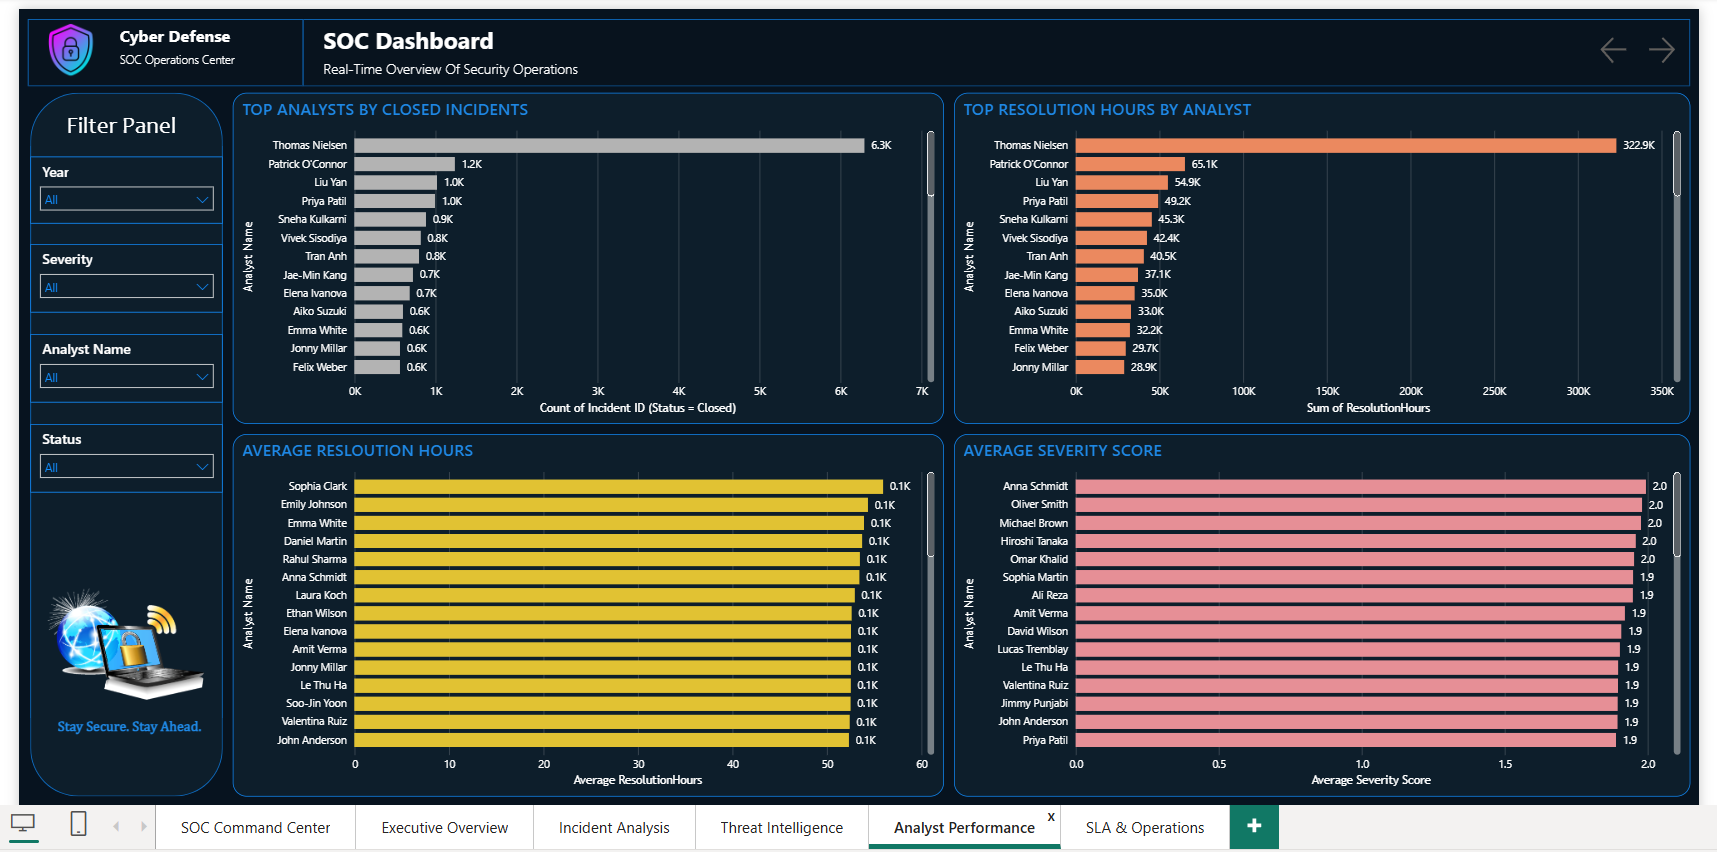

The dashboard page shown, as its layout file describes it:
{"tool":"powerbi","page":{"name":"Analyst Performance","canvas":[1920,1080],"ordinal":4},"visuals":[{"type":"group","id":"g1","title":"Group 8","box":[324.3,11.4,1585.7,77.1],"z":0},{"type":"group","id":"g2","title":"Group 7","box":[10,12,315,77],"z":1000},{"type":"shape","box":[10,12,315,77],"z":1000,"group":"g2"},{"type":"textbox","title":"Cyber Defense","box":[110,17,154,30],"z":2000,"group":"g2"},{"type":"actionButton","box":[1857.1,27.1,40,40],"z":2000},{"type":"actionButton","box":[1802.9,27.1,40,40],"z":3000},{"type":"textbox","title":"SOC Operations Center","box":[110,49,195,27],"z":3000,"group":"g2"},{"type":"image","box":[17,14,84,67],"z":4000,"group":"g2"},{"type":"shape","box":[12.9,95.7,220,804.3],"z":4000},{"type":"shape","box":[324.3,11.4,1585.7,77.1],"z":5000,"group":"g1"},{"type":"shape","title":"Filter Panel","box":[54.3,115.7,132.9,35.7],"z":5000},{"type":"textbox","title":"SOC Dashboard","box":[342.7,16.4,390.1,64.1],"z":6000,"group":"g1"},{"type":"slicer","fields":{"Values":["Date.Year"]},"box":[12.9,168.6,220,77.1],"z":6000},{"type":"textbox","title":"Real-Time Overview Of Security Operations","box":[342.7,56.5,632.9,24],"z":7000,"group":"g1"},{"type":"slicer","fields":{"Values":["Incident.Severity"]},"box":[12.9,268.6,220,78.6],"z":7000},{"type":"slicer","fields":{"Values":["Incident.Status"]},"box":[12.9,474.3,220,78.6],"z":8000},{"type":"slicer","fields":{"Values":["Analyst.AnalystName"]},"box":[12.9,371.4,220,78.6],"z":9000},{"type":"barChart","title":"TOP ANALYSTS BY CLOSED INCIDENTS ","fields":{"Y":["CountNonNull(Incident.IncidentID)"],"Category":["Analyst.AnalystName"]},"box":[244.3,95.7,812.9,378.6],"z":10000},{"type":"barChart","title":"TOP RESOLUTION HOURS BY ANALYST","fields":{"Category":["Analyst.AnalystName"],"Y":["Sum(Incident.ResolutionHours)"]},"box":[1068.6,95.7,841.4,378.6],"z":11000},{"type":"barChart","title":"AVERAGE RESLOUTION HOURS","fields":{"Category":["Analyst.AnalystName"],"Y":["Avg(Incident.ResolutionHours)"]},"box":[244.3,485.7,812.9,414.3],"z":12000},{"type":"barChart","title":"AVERAGE SEVERITY SCORE","fields":{"Category":["Analyst.AnalystName"],"Y":["Avg(Incident.Severity Score)"]},"box":[1068.6,485.7,841.4,414.3],"z":13000},{"type":"image","box":[32.9,661.4,178.6,128.6],"z":14000},{"type":"shape","title":"Stay Secure. Stay Ahead.","box":[44.3,811.4,187.1,32.9],"z":15000}]}

Visuals, with their boxes on the page's 1920x1080 design canvas (x1, y1, x2, y2). These are canvas units, not pixel positions in the 1717x852 screenshot, which may show the page scaled, cropped or inside an application window:
"Group 8" group: 324:11:1910:88
"Group 7" group: 10:12:325:89
shape: 10:12:325:89
"Cyber Defense" textbox: 110:17:264:47
actionButton: 1857:27:1897:67
actionButton: 1803:27:1843:67
"SOC Operations Center" textbox: 110:49:305:76
image: 17:14:101:81
shape: 13:96:233:900
shape: 324:11:1910:88
"Filter Panel" shape: 54:116:187:151
"SOC Dashboard" textbox: 343:16:733:80
slicer - Date.Year: 13:169:233:246
"Real-Time Overview Of Security Operations" textbox: 343:56:976:80
slicer - Incident.Severity: 13:269:233:347
slicer - Incident.Status: 13:474:233:553
slicer - Analyst.AnalystName: 13:371:233:450
"TOP ANALYSTS BY CLOSED INCIDENTS " barChart: 244:96:1057:474
"TOP RESOLUTION HOURS BY ANALYST" barChart: 1069:96:1910:474
"AVERAGE RESLOUTION HOURS" barChart: 244:486:1057:900
"AVERAGE SEVERITY SCORE" barChart: 1069:486:1910:900
image: 33:661:212:790
"Stay Secure. Stay Ahead." shape: 44:811:231:844
